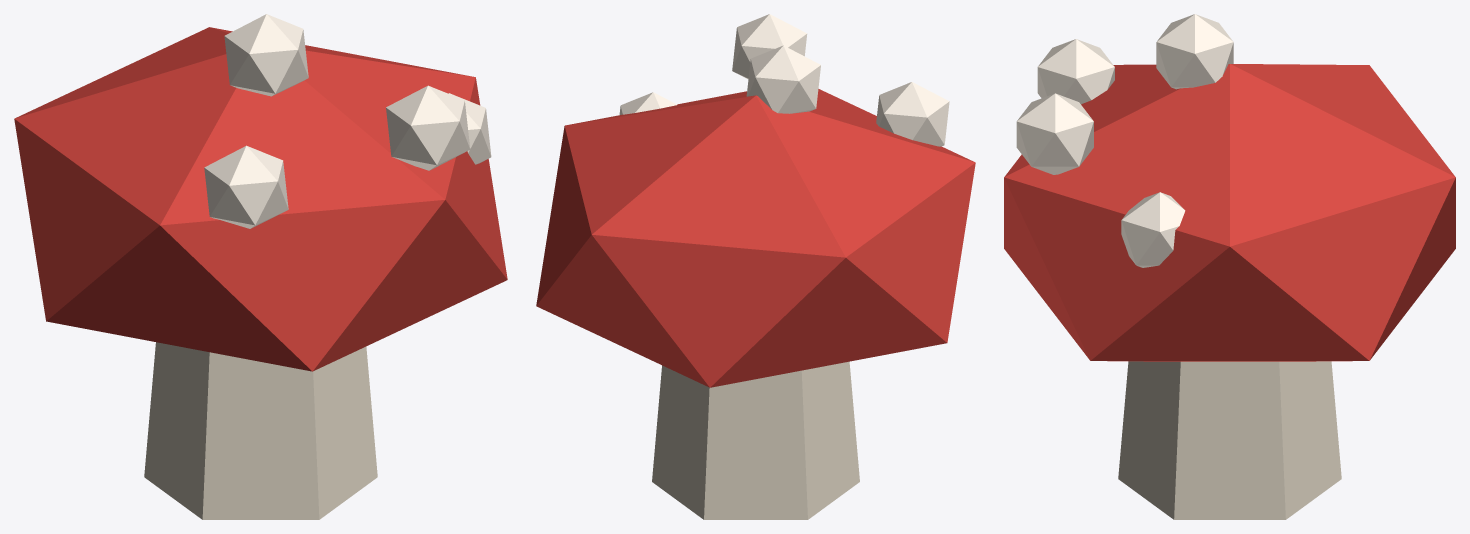
Rendered from mushroom.glb.
The picture shows the model from 3 angles, left to right: view 1: azimuth 30°, elevation 25°; view 2: azimuth 150°, elevation 25°; view 3: azimuth 270°, elevation 25°; orthographic projection. The views are drawn at different scales.
Visible parts, largest first — view 1: mushroom; view 2: mushroom; view 3: mushroom.
Part boxes in pixels (x1=…): mushroom: x1=14, y1=14, x2=507, y2=519; mushroom: x1=536, y1=14, x2=975, y2=519; mushroom: x1=1004, y1=14, x2=1455, y2=519.
Bounding box in the file's own units: 0.6798 × 0.725 × 0.6465.
